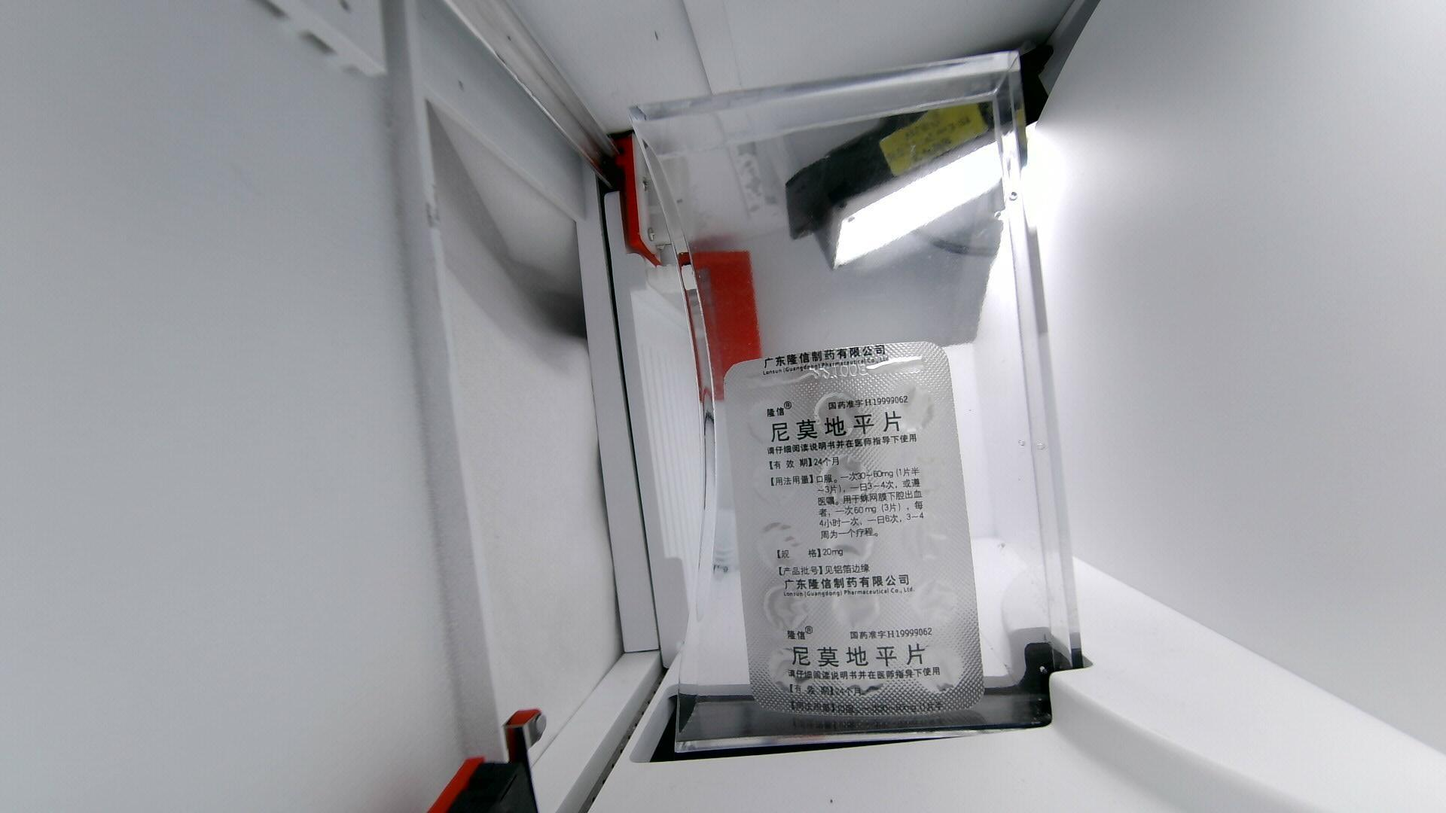Pill Back: (911, 644, 968, 697), (901, 579, 963, 626), (761, 581, 813, 635), (820, 452, 875, 503), (837, 646, 892, 696), (762, 645, 822, 690), (829, 580, 882, 629), (904, 513, 951, 568), (756, 516, 805, 568), (892, 449, 946, 492), (744, 403, 798, 444), (813, 394, 862, 439), (756, 458, 806, 501), (885, 387, 936, 428), (831, 520, 875, 563)
